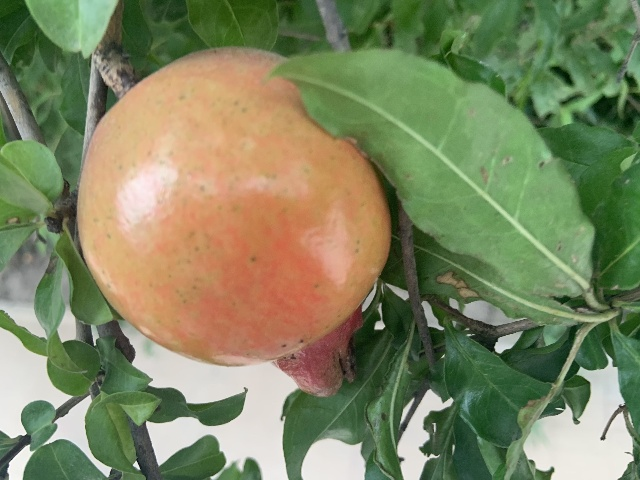ripe: (74, 47, 388, 397)
